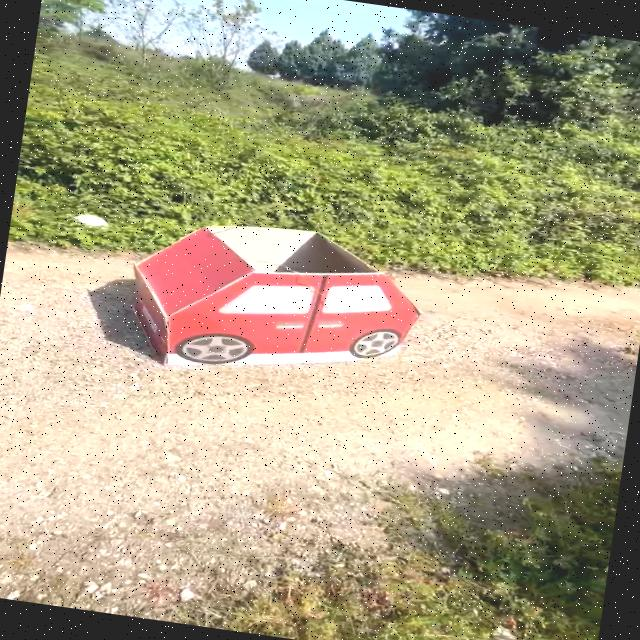red_car: (105, 202, 437, 413)
